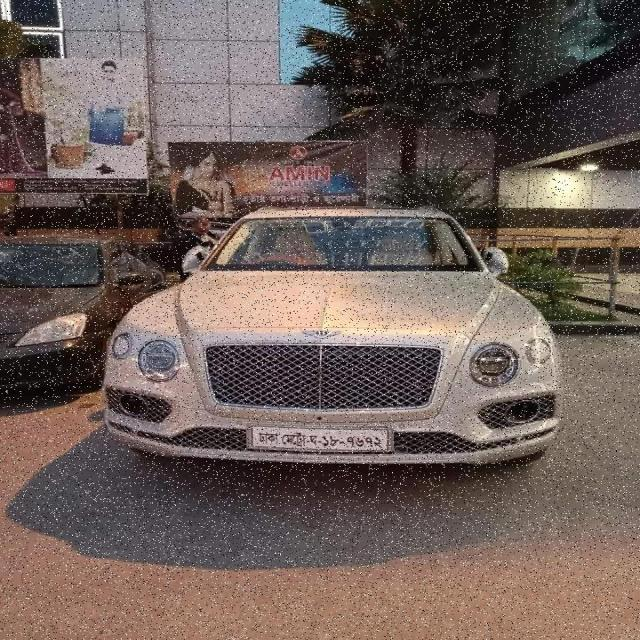numberplate: (246, 424, 394, 454)
